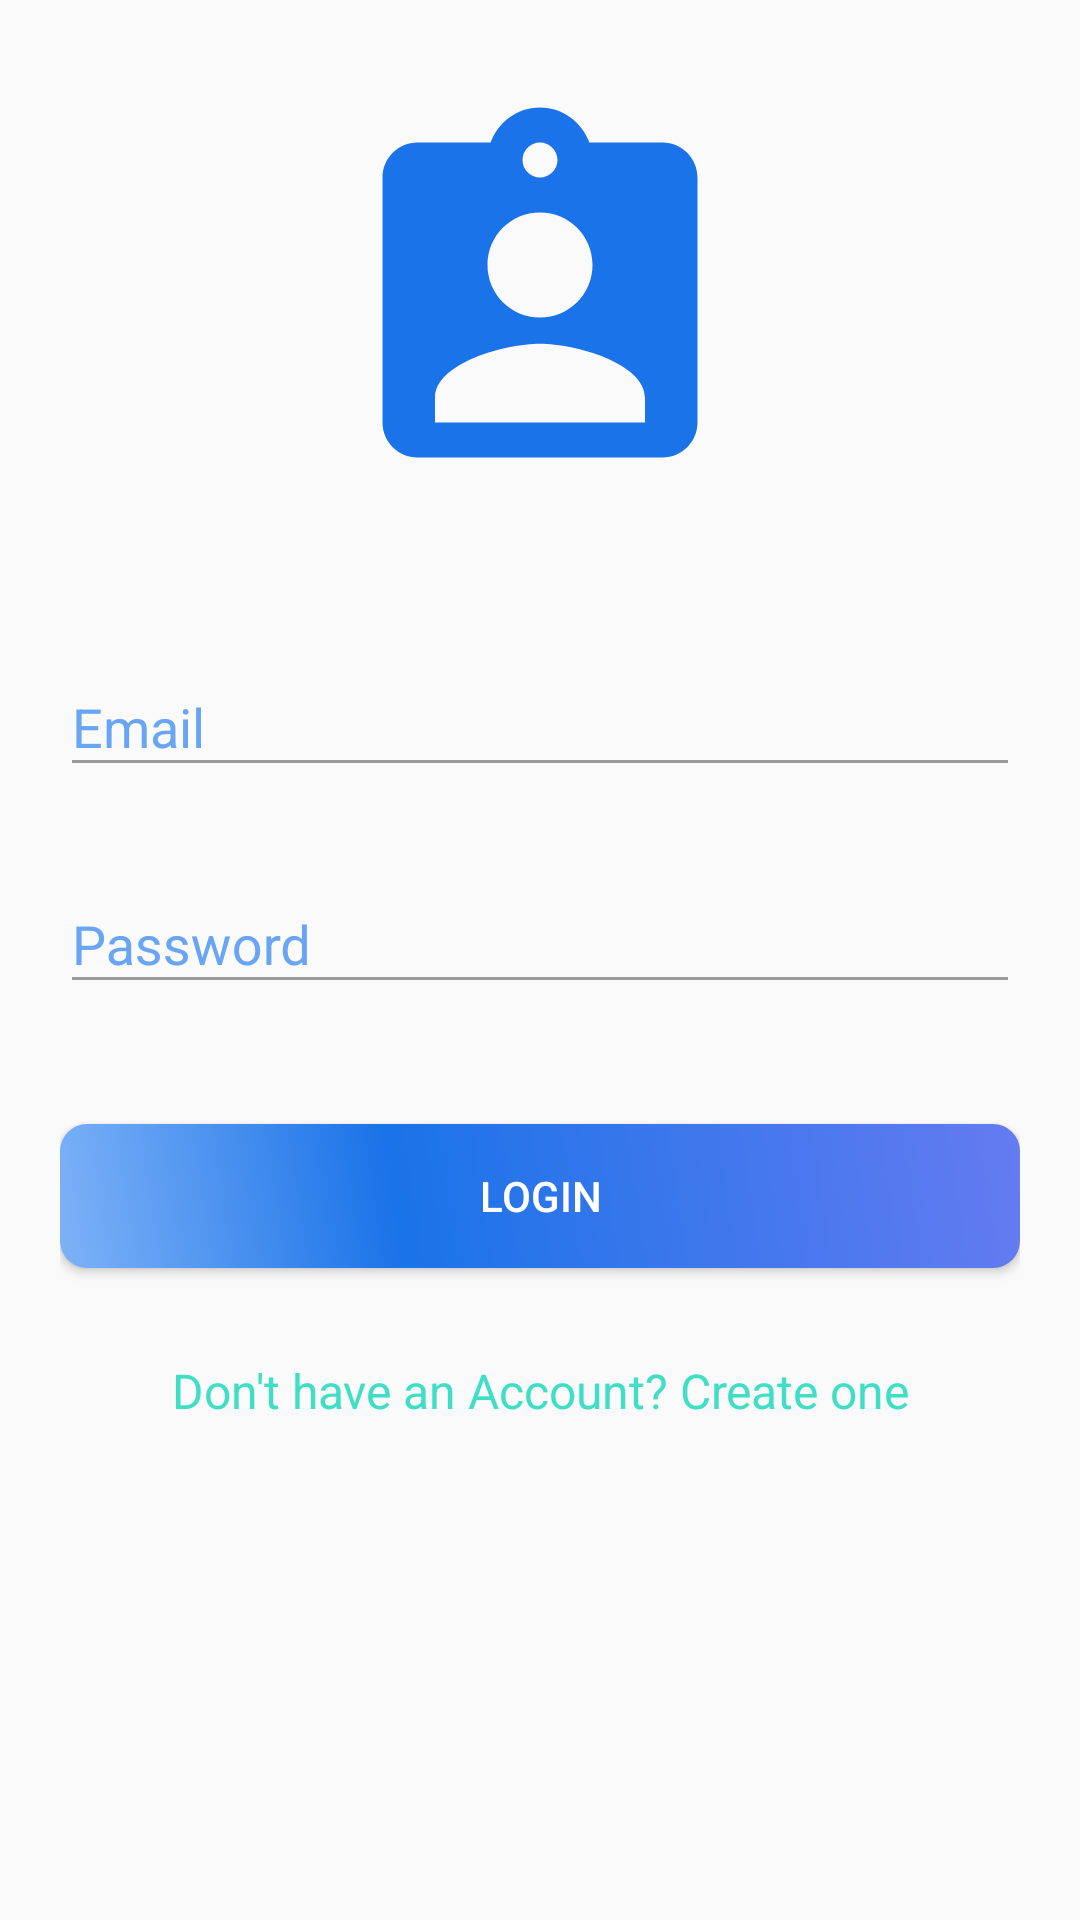

Where icons sit on this 1080px x 1920px app screen, as bbox=[x1, y1, x2, y2]:
assignment ind: bbox=[382, 107, 698, 458]
